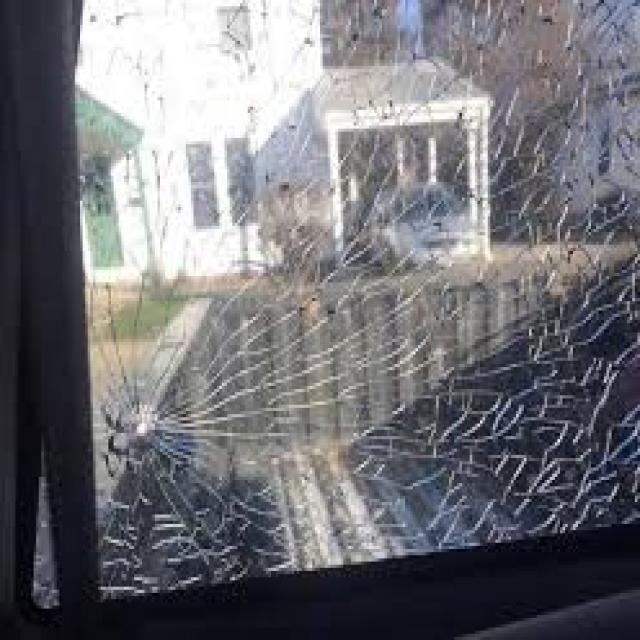damaged-window: (55, 0, 640, 601)
